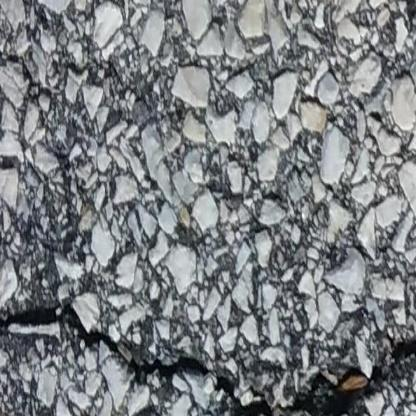Cracks: (0, 297, 416, 416)
